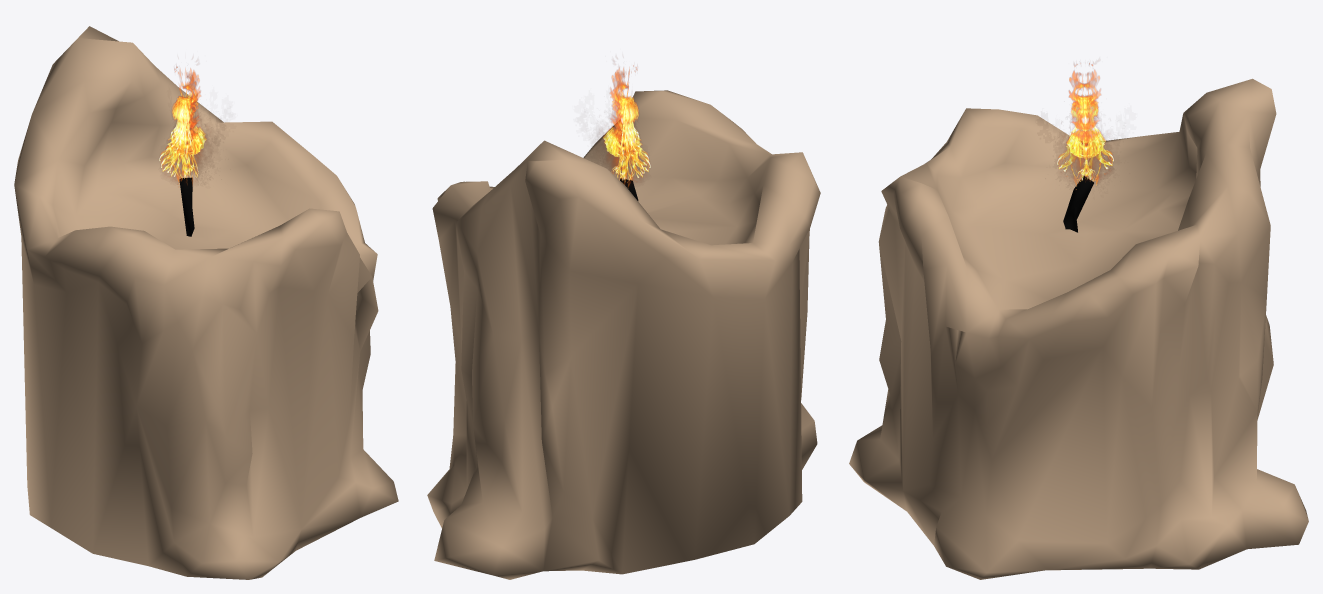
The model's file is candle1.glb.
3 views of the same model, side by side, from view 1: azimuth 30°, elevation 25°; view 2: azimuth 150°, elevation 25°; view 3: azimuth 270°, elevation 25° (orthographic). The views are drawn at different scales.
Parts seen in each view (by area): view 1: candle1; view 2: candle1; view 3: candle1.
Boxes of the visible parts, x1=… form: candle1: x1=14, y1=26, x2=398, y2=579; candle1: x1=427, y1=61, x2=820, y2=579; candle1: x1=849, y1=62, x2=1308, y2=579.
Size of the model in its own units: 0.2145 by 0.3043 by 0.2657.
3 materials, 1 textured.
